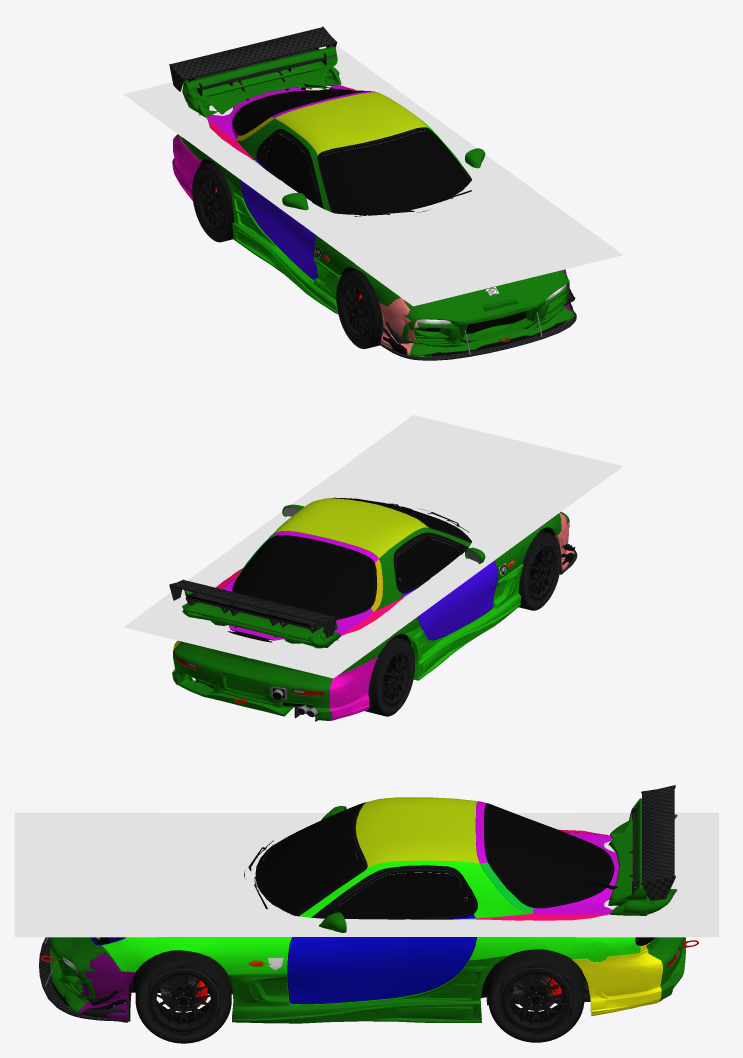
3 views of the same model, one above another, from view 1: azimuth 30°, elevation 25°; view 2: azimuth 150°, elevation 25°; view 3: azimuth 270°, elevation 25° (orthographic). The views are drawn at different scales.
Parts seen in each view (by area): view 1: neon (×4), shadow, maz_rx7spiritr_02_body_body_, maz_rx7spiritr_02_glassF_window_, maz_rx7spiritr_02_bumperFp_body_, maz_rx7spiritr_02_winge_carbon_fiber_, maz_rx7spiritr_02_wingn_body_, maz_rx7spiritr_02_wheel_tire_ (×2), maz_rx7spiritr_02_skirtRb_body_2_, maz_rx7spiritr_02_wheel_rim_ (×2), maz_rx7spiritr_02_glassRF_window_, maz_rx7spiritr_02_glassR_window_ (+15 smaller); view 2: neon (×4), shadow, maz_rx7spiritr_02_body_body_, maz_rx7spiritr_02_glassR_window_, maz_rx7spiritr_02_bumperRc_body_, maz_rx7spiritr_02_wheel_tire_ (×2), maz_rx7spiritr_02_bumperRb_body_, maz_rx7spiritr_02_skirtRb_body_2_, maz_rx7spiritr_02_wingm_body_, maz_rx7spiritr_02_winge_carbon_fiber_, maz_rx7spiritr_02_glassRF_window_, maz_rx7spiritr_02_wheel_rim_ (×2) (+7 smaller); view 3: shadow, neon (×4), maz_rx7spiritr_02_body_body_, maz_rx7spiritr_02_wheel_tire_ (×2), maz_rx7spiritr_02_glassR_window_, maz_rx7spiritr_02_glassF_window_, maz_rx7spiritr_02_skirtLb_body_2_, maz_rx7spiritr_02_glassLF_window_, maz_rx7spiritr_02_bumperRc_body_, maz_rx7spiritr_02_winge_carbon_fiber_, maz_rx7spiritr_02_wheel_rim_ (×2), maz_rx7spiritr_02_skirtLc_body_ (+18 smaller).
Part boxes in pixels (x1,y1,x2,y2): neon (×4): [123, 45, 623, 306]; shadow: [168, 65, 576, 282]; maz_rx7spiritr_02_body_body_: [180, 85, 470, 306]; maz_rx7spiritr_02_glassF_window_: [322, 130, 471, 214]; maz_rx7spiritr_02_bumperFp_body_: [402, 270, 569, 352]; maz_rx7spiritr_02_winge_carbon_fiber_: [169, 26, 337, 100]; maz_rx7spiritr_02_wingn_body_: [184, 45, 337, 114]; maz_rx7spiritr_02_wheel_tire_ (×2): [192, 162, 381, 348]; maz_rx7spiritr_02_skirtRb_body_2_: [230, 190, 341, 313]; maz_rx7spiritr_02_wheel_rim_ (×2): [197, 177, 369, 336]; maz_rx7spiritr_02_glassRF_window_: [264, 135, 314, 201]; maz_rx7spiritr_02_glassR_window_: [238, 90, 363, 129]; neon (×4): [123, 415, 622, 678]; shadow: [166, 438, 575, 657]; maz_rx7spiritr_02_body_body_: [216, 498, 561, 673]; maz_rx7spiritr_02_glassR_window_: [238, 540, 370, 614]; maz_rx7spiritr_02_bumperRc_body_: [172, 640, 377, 719]; maz_rx7spiritr_02_wheel_tire_ (×2): [365, 531, 561, 716]; maz_rx7spiritr_02_bumperRb_body_: [179, 647, 377, 720]; maz_rx7spiritr_02_skirtRb_body_2_: [412, 564, 523, 680]; maz_rx7spiritr_02_wingm_body_: [182, 603, 339, 648]; maz_rx7spiritr_02_winge_carbon_fiber_: [169, 579, 337, 637]; maz_rx7spiritr_02_glassRF_window_: [397, 538, 460, 588]; maz_rx7spiritr_02_wheel_rim_ (×2): [382, 545, 555, 704]; shadow: [53, 813, 689, 936]; neon (×4): [14, 812, 718, 937]; maz_rx7spiritr_02_body_body_: [102, 797, 640, 1004]; maz_rx7spiritr_02_wheel_tire_ (×2): [135, 949, 584, 1043]; maz_rx7spiritr_02_glassR_window_: [493, 807, 601, 899]; maz_rx7spiritr_02_glassF_window_: [261, 804, 360, 914]; maz_rx7spiritr_02_skirtLb_body_2_: [227, 966, 492, 1023]; maz_rx7spiritr_02_glassLF_window_: [335, 872, 461, 919]; maz_rx7spiritr_02_bumperRc_body_: [572, 937, 683, 1016]; maz_rx7spiritr_02_winge_carbon_fiber_: [629, 785, 675, 900]; maz_rx7spiritr_02_wheel_rim_ (×2): [151, 969, 569, 1030]; maz_rx7spiritr_02_skirtLc_body_: [231, 966, 491, 1022].
Size of the model in its own units: 4 by 1.25 by 4.85.
